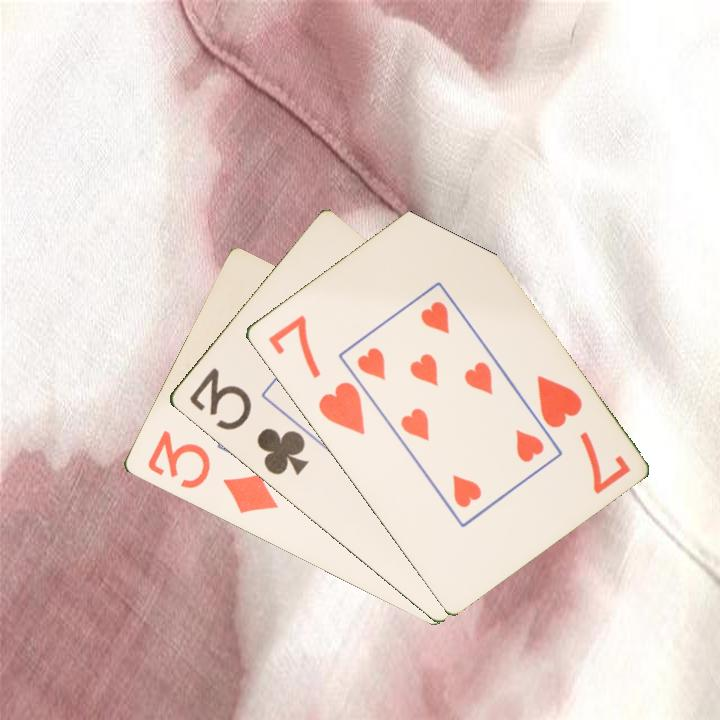3c: (185, 363, 311, 479)
3d: (143, 427, 281, 517)
7h: (264, 311, 368, 438), (532, 371, 633, 497)
